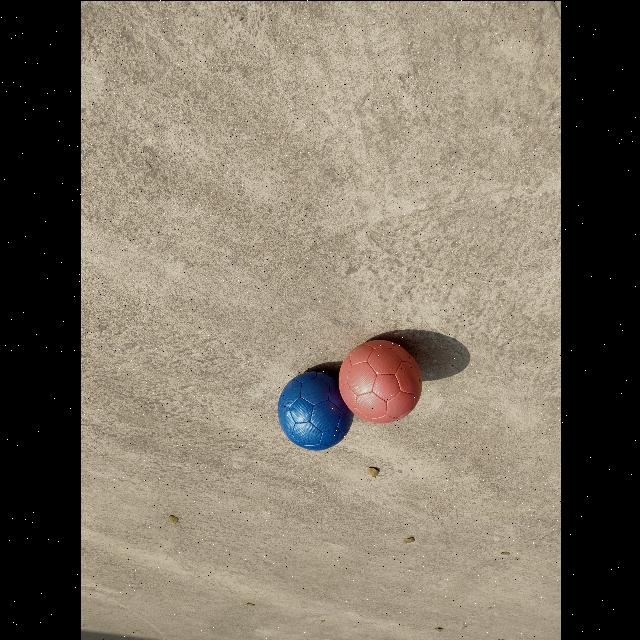B: (277, 370, 353, 450)
R: (337, 339, 421, 422)
